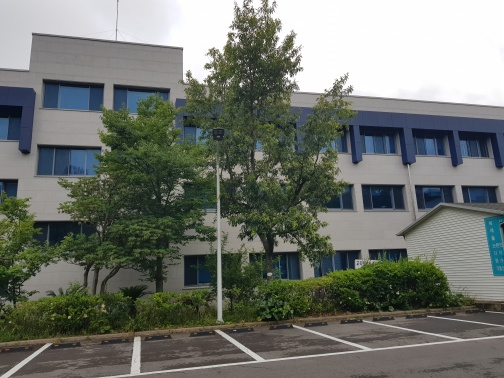College of Social Sciences: (17, 26, 503, 302)
